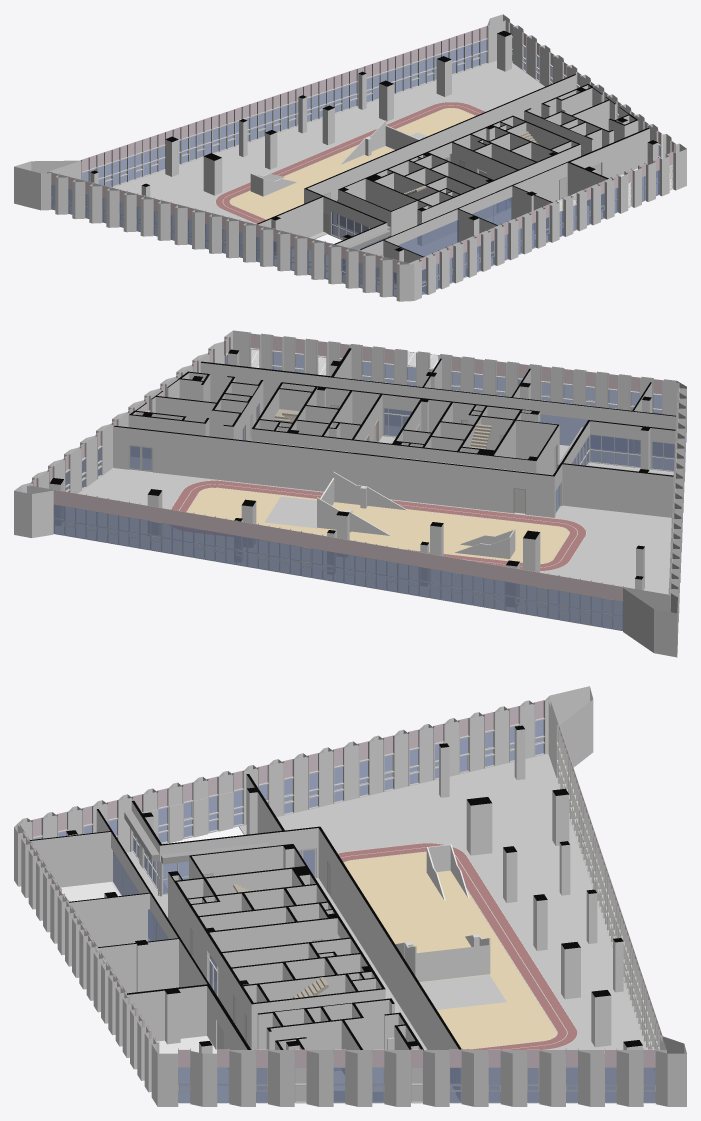
The picture shows the model from 3 angles, top to bottom: view 1: azimuth 30°, elevation 25°; view 2: azimuth 150°, elevation 25°; view 3: azimuth 270°, elevation 25°; orthographic projection. The views are drawn at different scales.
Visible parts, largest first — view 1: A7_6F_Wall001, A7_6F_outWall001, A7_6F_Floor001, A7_6F_Window001, A7_6F_WindowFrame001, A7_6F_GlassDoor001, A7_6F_Door001; view 2: A7_6F_Wall001, A7_6F_Floor001, A7_6F_Window001, A7_6F_outWall001, A7_6F_WindowFrame001, A7_6F_GlassDoor001, A7_6F_Door001, A7_6F_Stairs001, A7_6F_Vent001; view 3: A7_6F_Wall001, A7_6F_Floor001, A7_6F_outWall001, A7_6F_Window001, A7_6F_WindowFrame001, A7_6F_GlassDoor001, A7_6F_FireShuter001, A7_6F_Door001.
Boxes of the visible parts, box(x1,y1,x2,y2) form: A7_6F_Wall001: box(90, 30, 658, 291); A7_6F_outWall001: box(14, 14, 686, 301); A7_6F_Floor001: box(53, 60, 671, 295); A7_6F_Window001: box(51, 22, 675, 296); A7_6F_WindowFrame001: box(51, 22, 675, 296); A7_6F_GlassDoor001: box(331, 92, 582, 275); A7_6F_Door001: box(323, 148, 601, 277); A7_6F_Wall001: box(49, 348, 676, 607); A7_6F_Floor001: box(55, 414, 673, 628); A7_6F_Window001: box(31, 333, 679, 630); A7_6F_outWall001: box(14, 330, 686, 657); A7_6F_WindowFrame001: box(31, 333, 679, 630); A7_6F_GlassDoor001: box(128, 405, 674, 513); A7_6F_Door001: box(242, 402, 640, 514); A7_6F_Stairs001: box(274, 409, 491, 449); A7_6F_Vent001: box(250, 349, 438, 375); A7_6F_Wall001: box(30, 725, 642, 1101); A7_6F_Floor001: box(60, 754, 654, 1101); A7_6F_outWall001: box(14, 686, 686, 1106); A7_6F_Window001: box(22, 700, 662, 1102); A7_6F_WindowFrame001: box(23, 700, 661, 1103); A7_6F_GlassDoor001: box(113, 831, 455, 1089); A7_6F_FireShuter001: box(124, 810, 269, 896); A7_6F_Door001: box(190, 861, 330, 1049).
Bounding box in the file's own units: 62.12 × 4.61 × 48.09.
